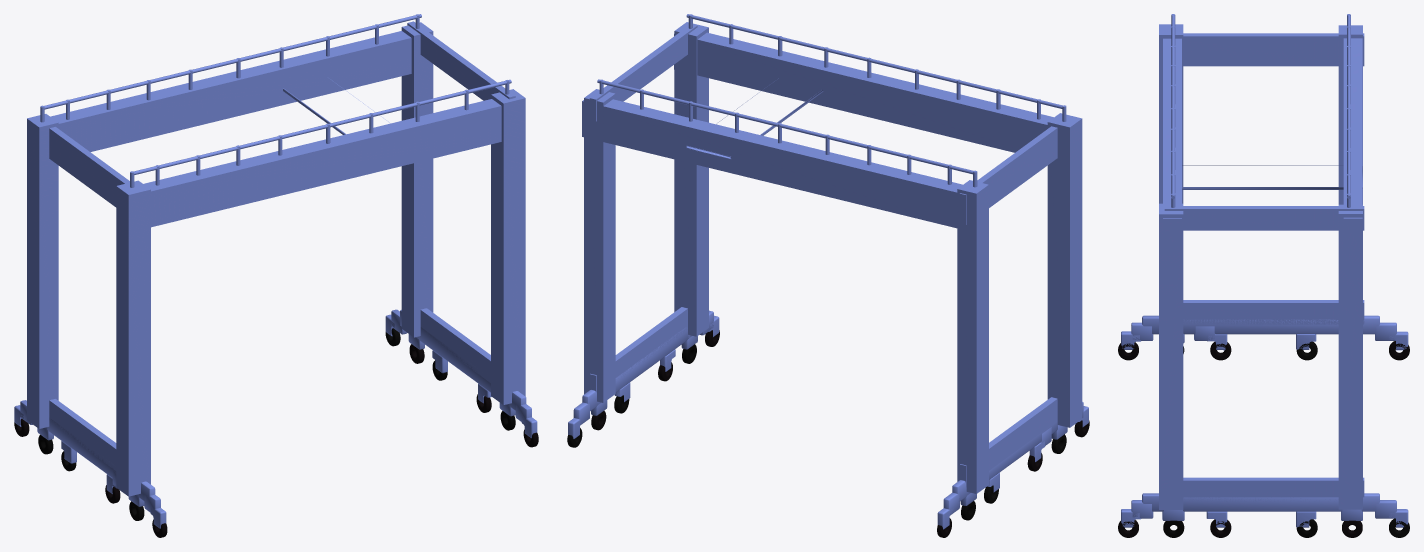
File: changqiao.glb
3 renders of one model, left to right at view 1: azimuth 30°, elevation 25°; view 2: azimuth 150°, elevation 25°; view 3: azimuth 270°, elevation 25°, orthographic. The views are drawn at different scales.
Visible parts, largest first — view 1: 立方体.26_4.003; view 2: 立方体.26_4.003; view 3: 立方体.26_4.003.
Part boxes in pixels (x1=…): 立方体.26_4.003: x1=14, y1=14, x2=538, y2=537; 立方体.26_4.003: x1=567, y1=14, x2=1089, y2=537; 立方体.26_4.003: x1=1118, y1=14, x2=1409, y2=537.
Bounding box in the file's own units: 17.52 × 14.68 × 11.33.
Materials: 1 (1 with a texture image).
